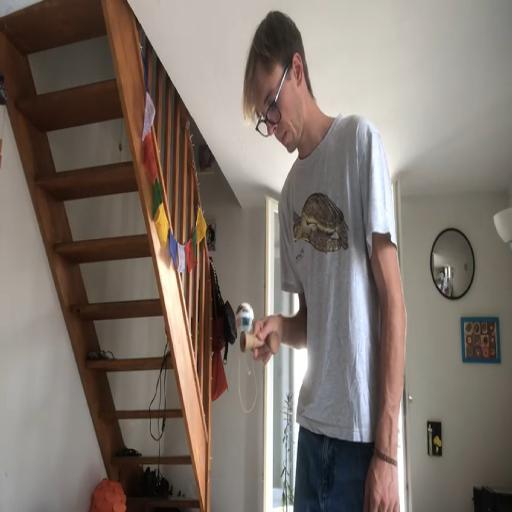kendama_ball: (236, 303, 254, 334)
